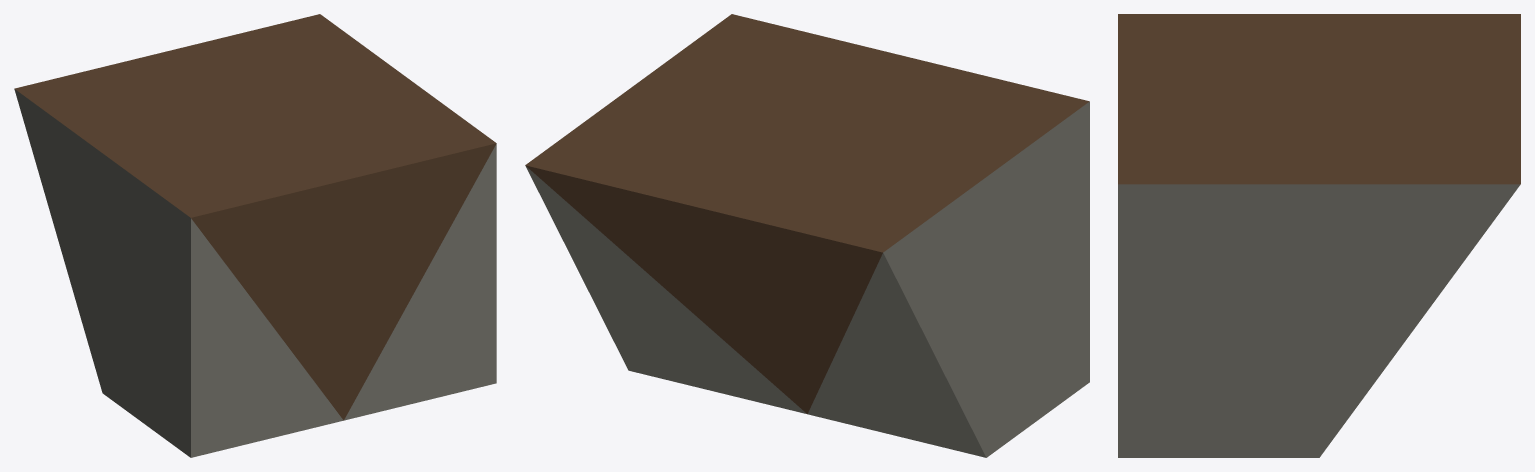
3 renders of one model, left to right at view 1: azimuth 30°, elevation 25°; view 2: azimuth 150°, elevation 25°; view 3: azimuth 270°, elevation 25°, orthographic. The views are drawn at different scales.
Parts seen in each view (by area): view 1: SM_Menaphite_Ruins_Roof_06_LOD0; view 2: SM_Menaphite_Ruins_Roof_06_LOD0; view 3: SM_Menaphite_Ruins_Roof_06_LOD0.
Part boxes in pixels (left/top/right/bottom): SM_Menaphite_Ruins_Roof_06_LOD0: left=14, top=14, right=496, bottom=457; SM_Menaphite_Ruins_Roof_06_LOD0: left=525, top=14, right=1089, bottom=457; SM_Menaphite_Ruins_Roof_06_LOD0: left=1118, top=14, right=1520, bottom=457.
Bounding box in the file's own units: 2 × 1.5 × 2.
